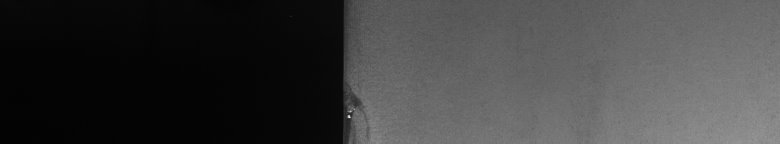hb: (352, 85, 376, 136)
